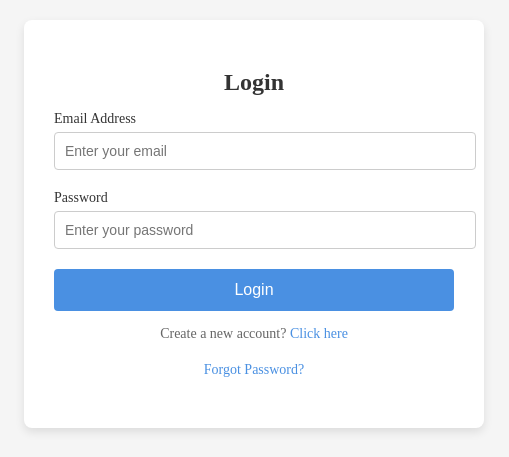
Scenario: Login Page › should show password reset link
The image size is (509, 457).
Click the link "Forgot Password?": (255, 371) x1=204 y1=363 x2=305 y2=378
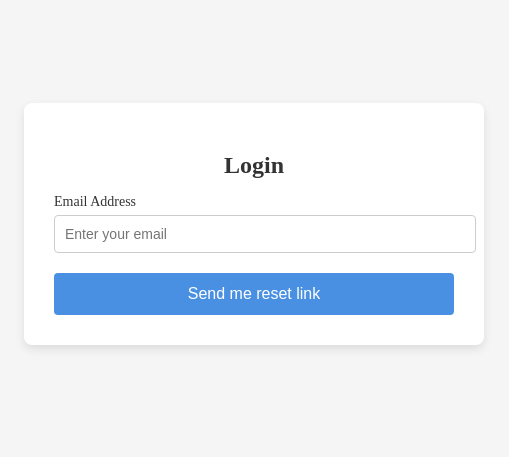
Check: the button "Send me reset link" is shown, box x1=54 y1=274 x2=454 y2=316
